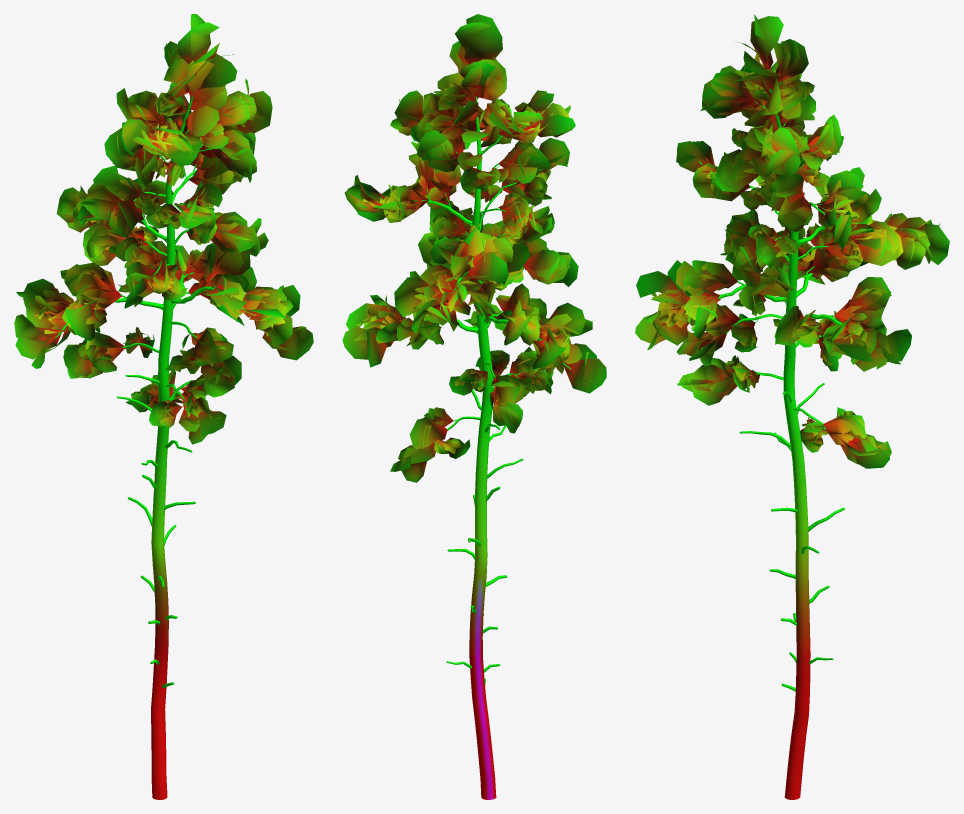
File: Pine_5.fbx
The picture shows the model from 3 angles, left to right: view 1: azimuth 30°, elevation 25°; view 2: azimuth 150°, elevation 25°; view 3: azimuth 270°, elevation 25°; orthographic projection. The views are drawn at different scales.
Parts seen in each view (by area): view 1: Pine_5; view 2: Pine_5; view 3: Pine_5.
Part boxes in pixels (box(x1,y1,x2,y2)): Pine_5: box(14, 14, 313, 799); Pine_5: box(342, 14, 606, 799); Pine_5: box(635, 14, 949, 799).
Bounding box in the file's own units: 10.09 × 30.99 × 11.17.
